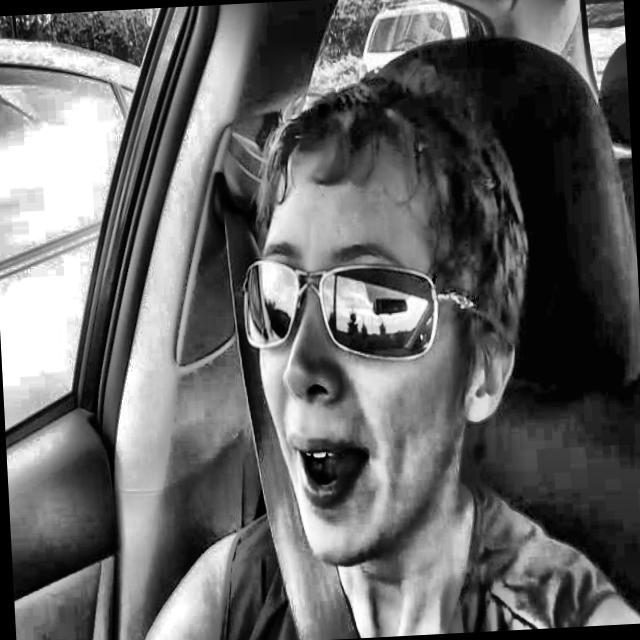open_mouth: (262, 421, 404, 527)
